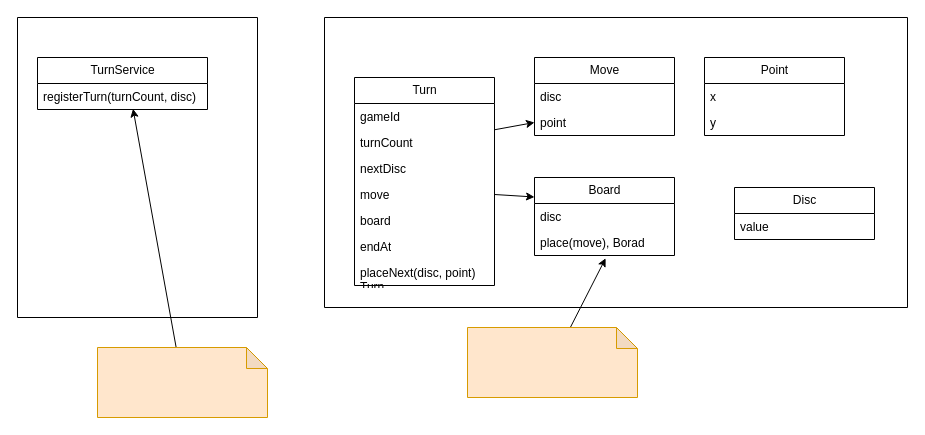
Image size: 925x435. Some labels were removed from this diagram. The shapes that lost their labels are listed below. From the top down, each one's box as (x1, y1, x2, y2) in pixels, then its label:
(324, 16, 908, 308): domain
(96, 346, 268, 418): - 一つ前のターンを取得 石を置く ターンを取得する
(466, 326, 638, 398): placeの内部では - 盤面におけるかチェック - 石を置く - ひっくり返す
